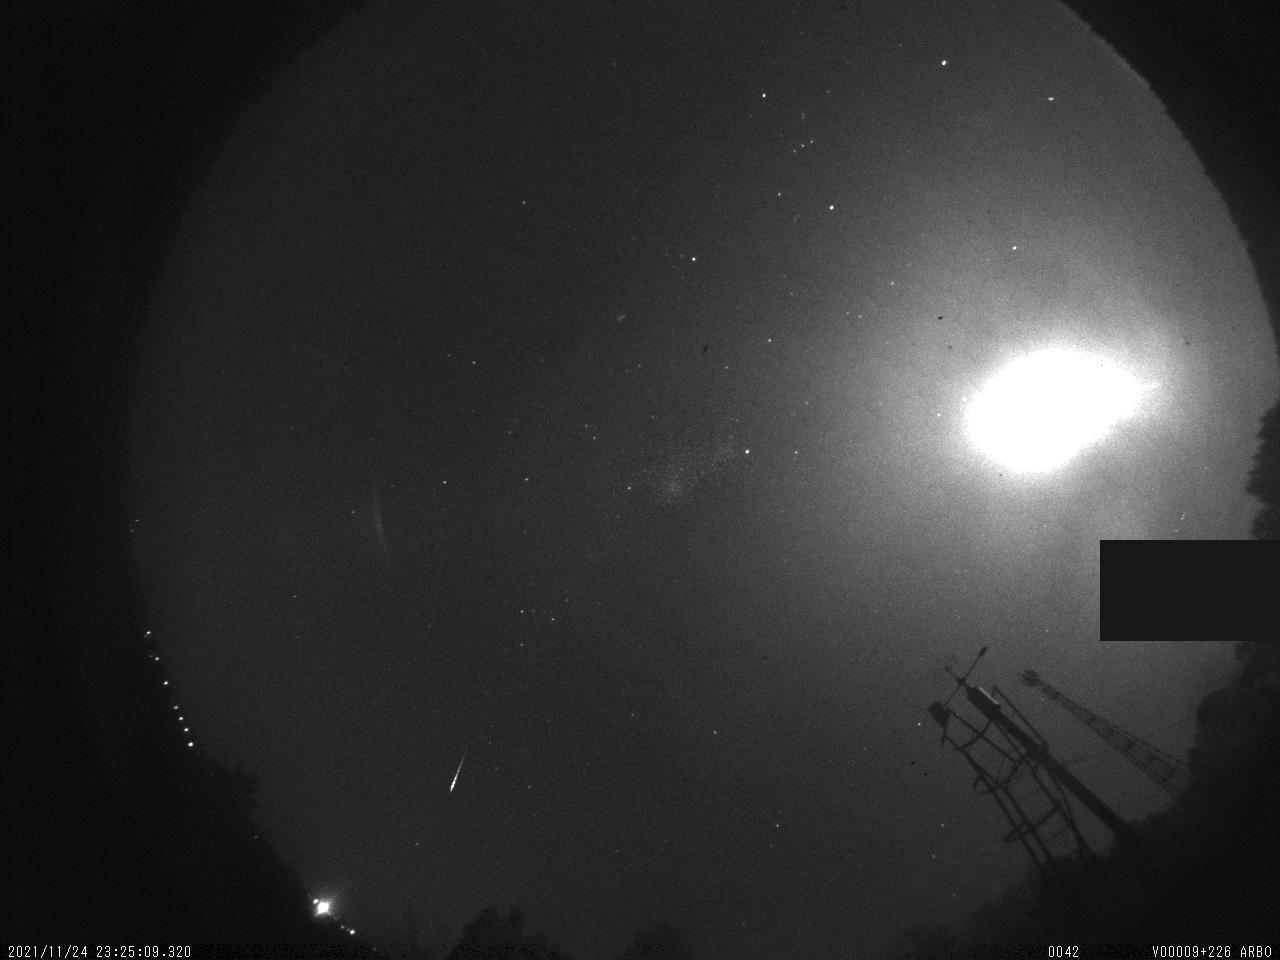meteor: (438, 743, 479, 808)
